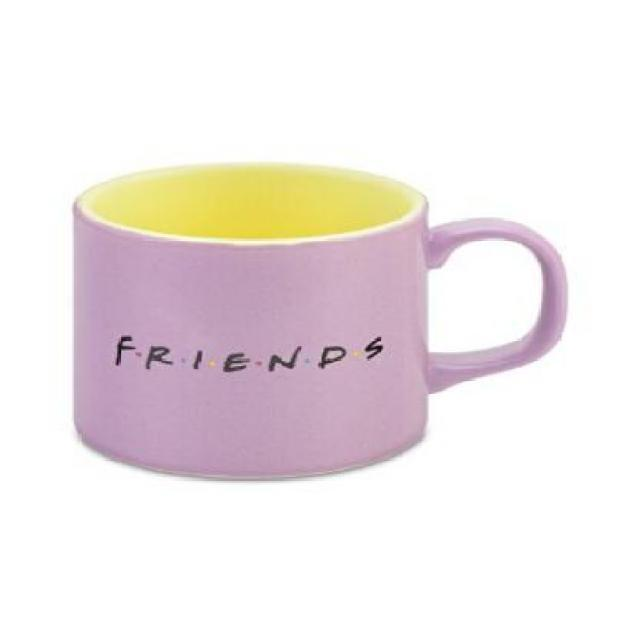taza: (68, 161, 572, 482)
